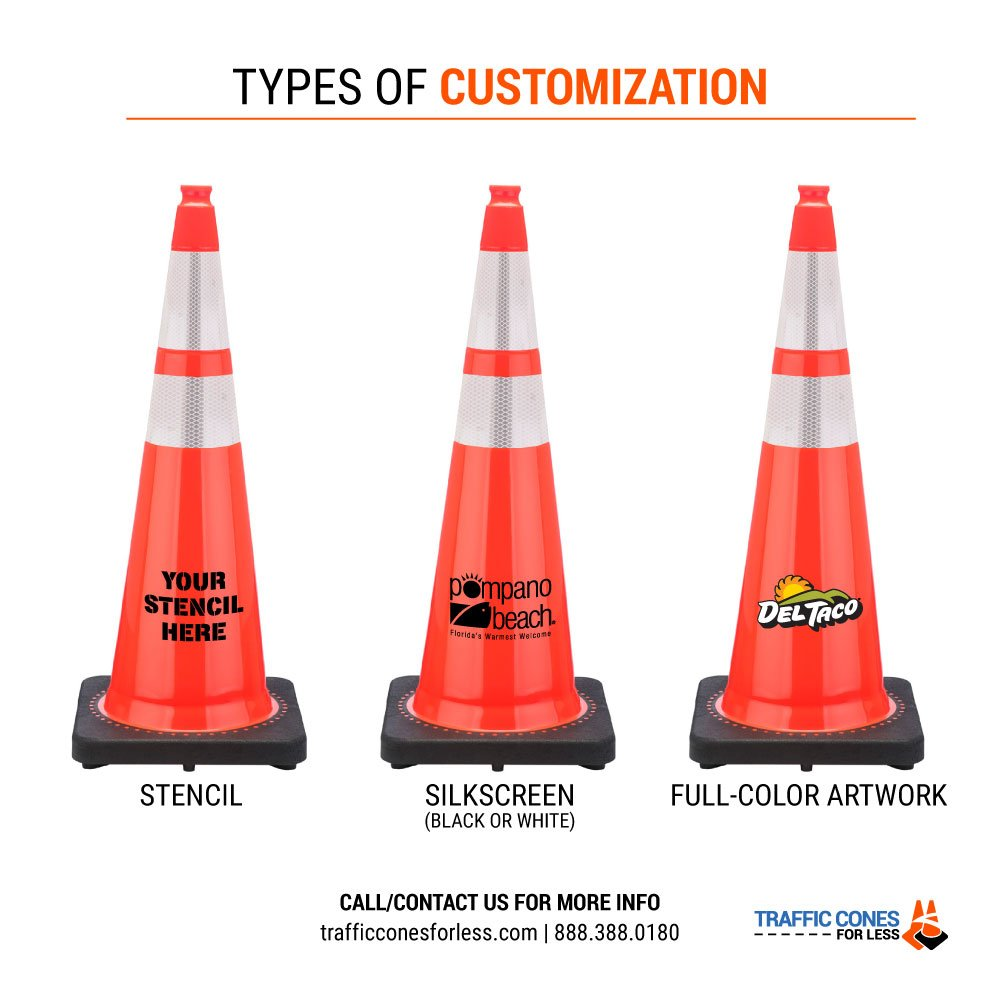Road_cone: (674, 162, 935, 775), (60, 166, 312, 779), (386, 170, 620, 770)
